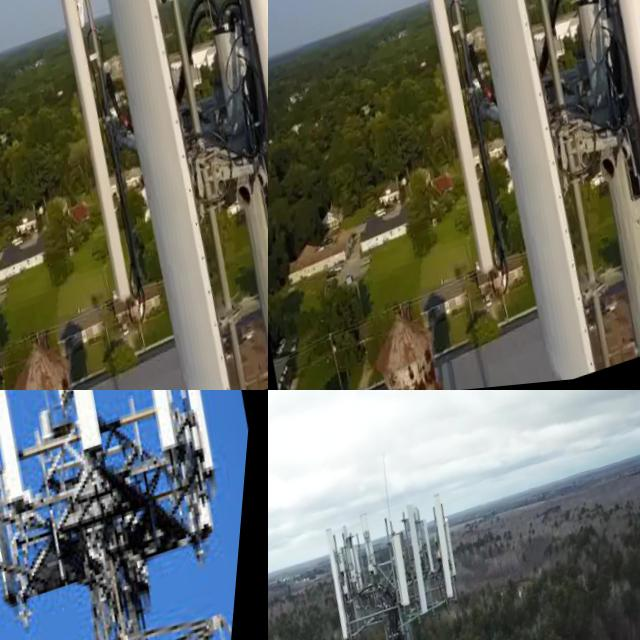GSM Antenna: (405, 0, 640, 390), (42, 0, 268, 390), (32, 0, 175, 323), (395, 0, 538, 294), (556, 0, 640, 364), (193, 0, 268, 390), (168, 390, 239, 501), (397, 498, 449, 635), (0, 390, 48, 519), (318, 524, 368, 640), (50, 390, 121, 469), (425, 494, 472, 613), (134, 390, 196, 472), (385, 532, 427, 622), (356, 514, 395, 598)
